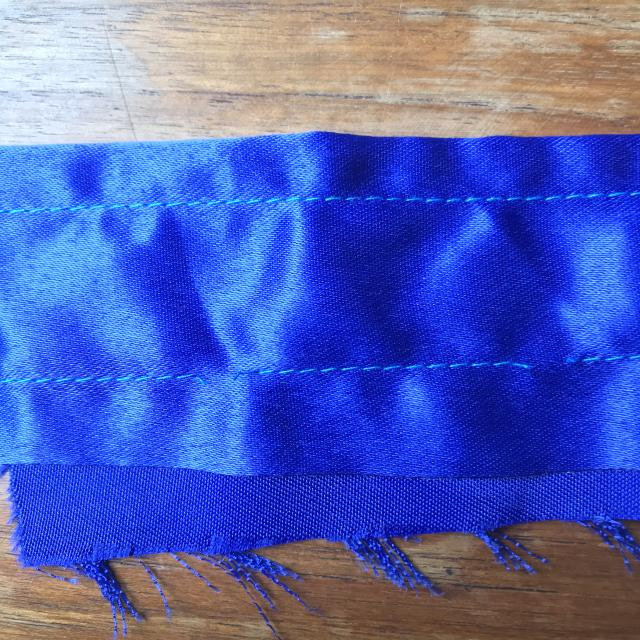broken: (479, 326, 609, 394)
good: (370, 182, 548, 224)
